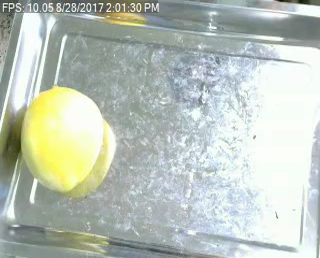Mango: (21, 88, 103, 190)
